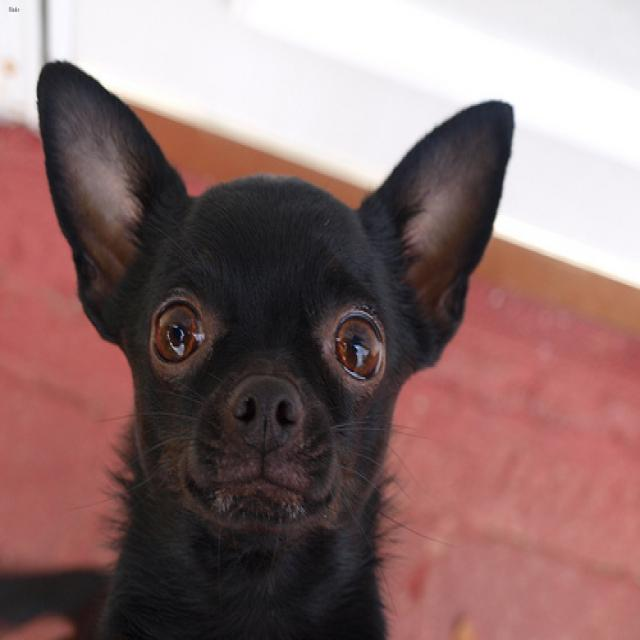dog-chihuahua: (32, 49, 525, 637)
